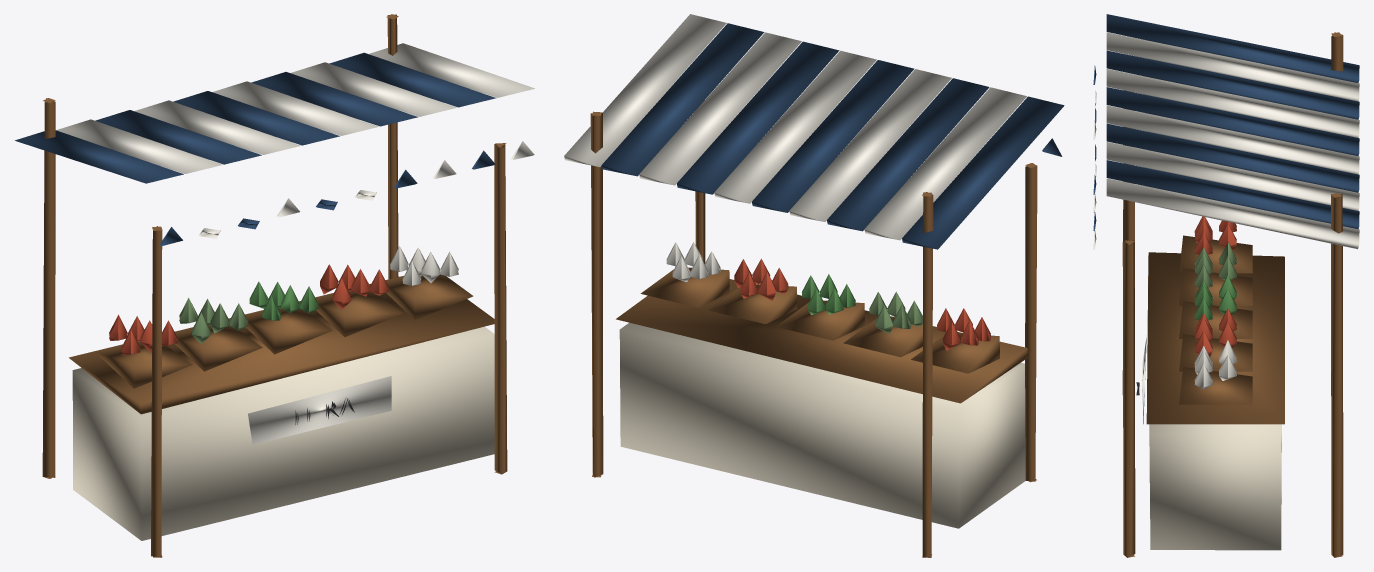
Rendered from lod_market_stall.glb.
The picture shows the model from 3 angles, left to right: view 1: azimuth 30°, elevation 25°; view 2: azimuth 150°, elevation 25°; view 3: azimuth 270°, elevation 25°; orthographic projection. The views are drawn at different scales.
Visible parts, largest first — view 1: market_stall; view 2: market_stall; view 3: market_stall.
Boxes of the visible parts, <box> form: market_stall: <box>15,14,534,557</box>; market_stall: <box>564,14,1064,557</box>; market_stall: <box>1093,14,1359,557</box>.
Bounding box in the file's own units: 2.49 × 2.36 × 1.54.
